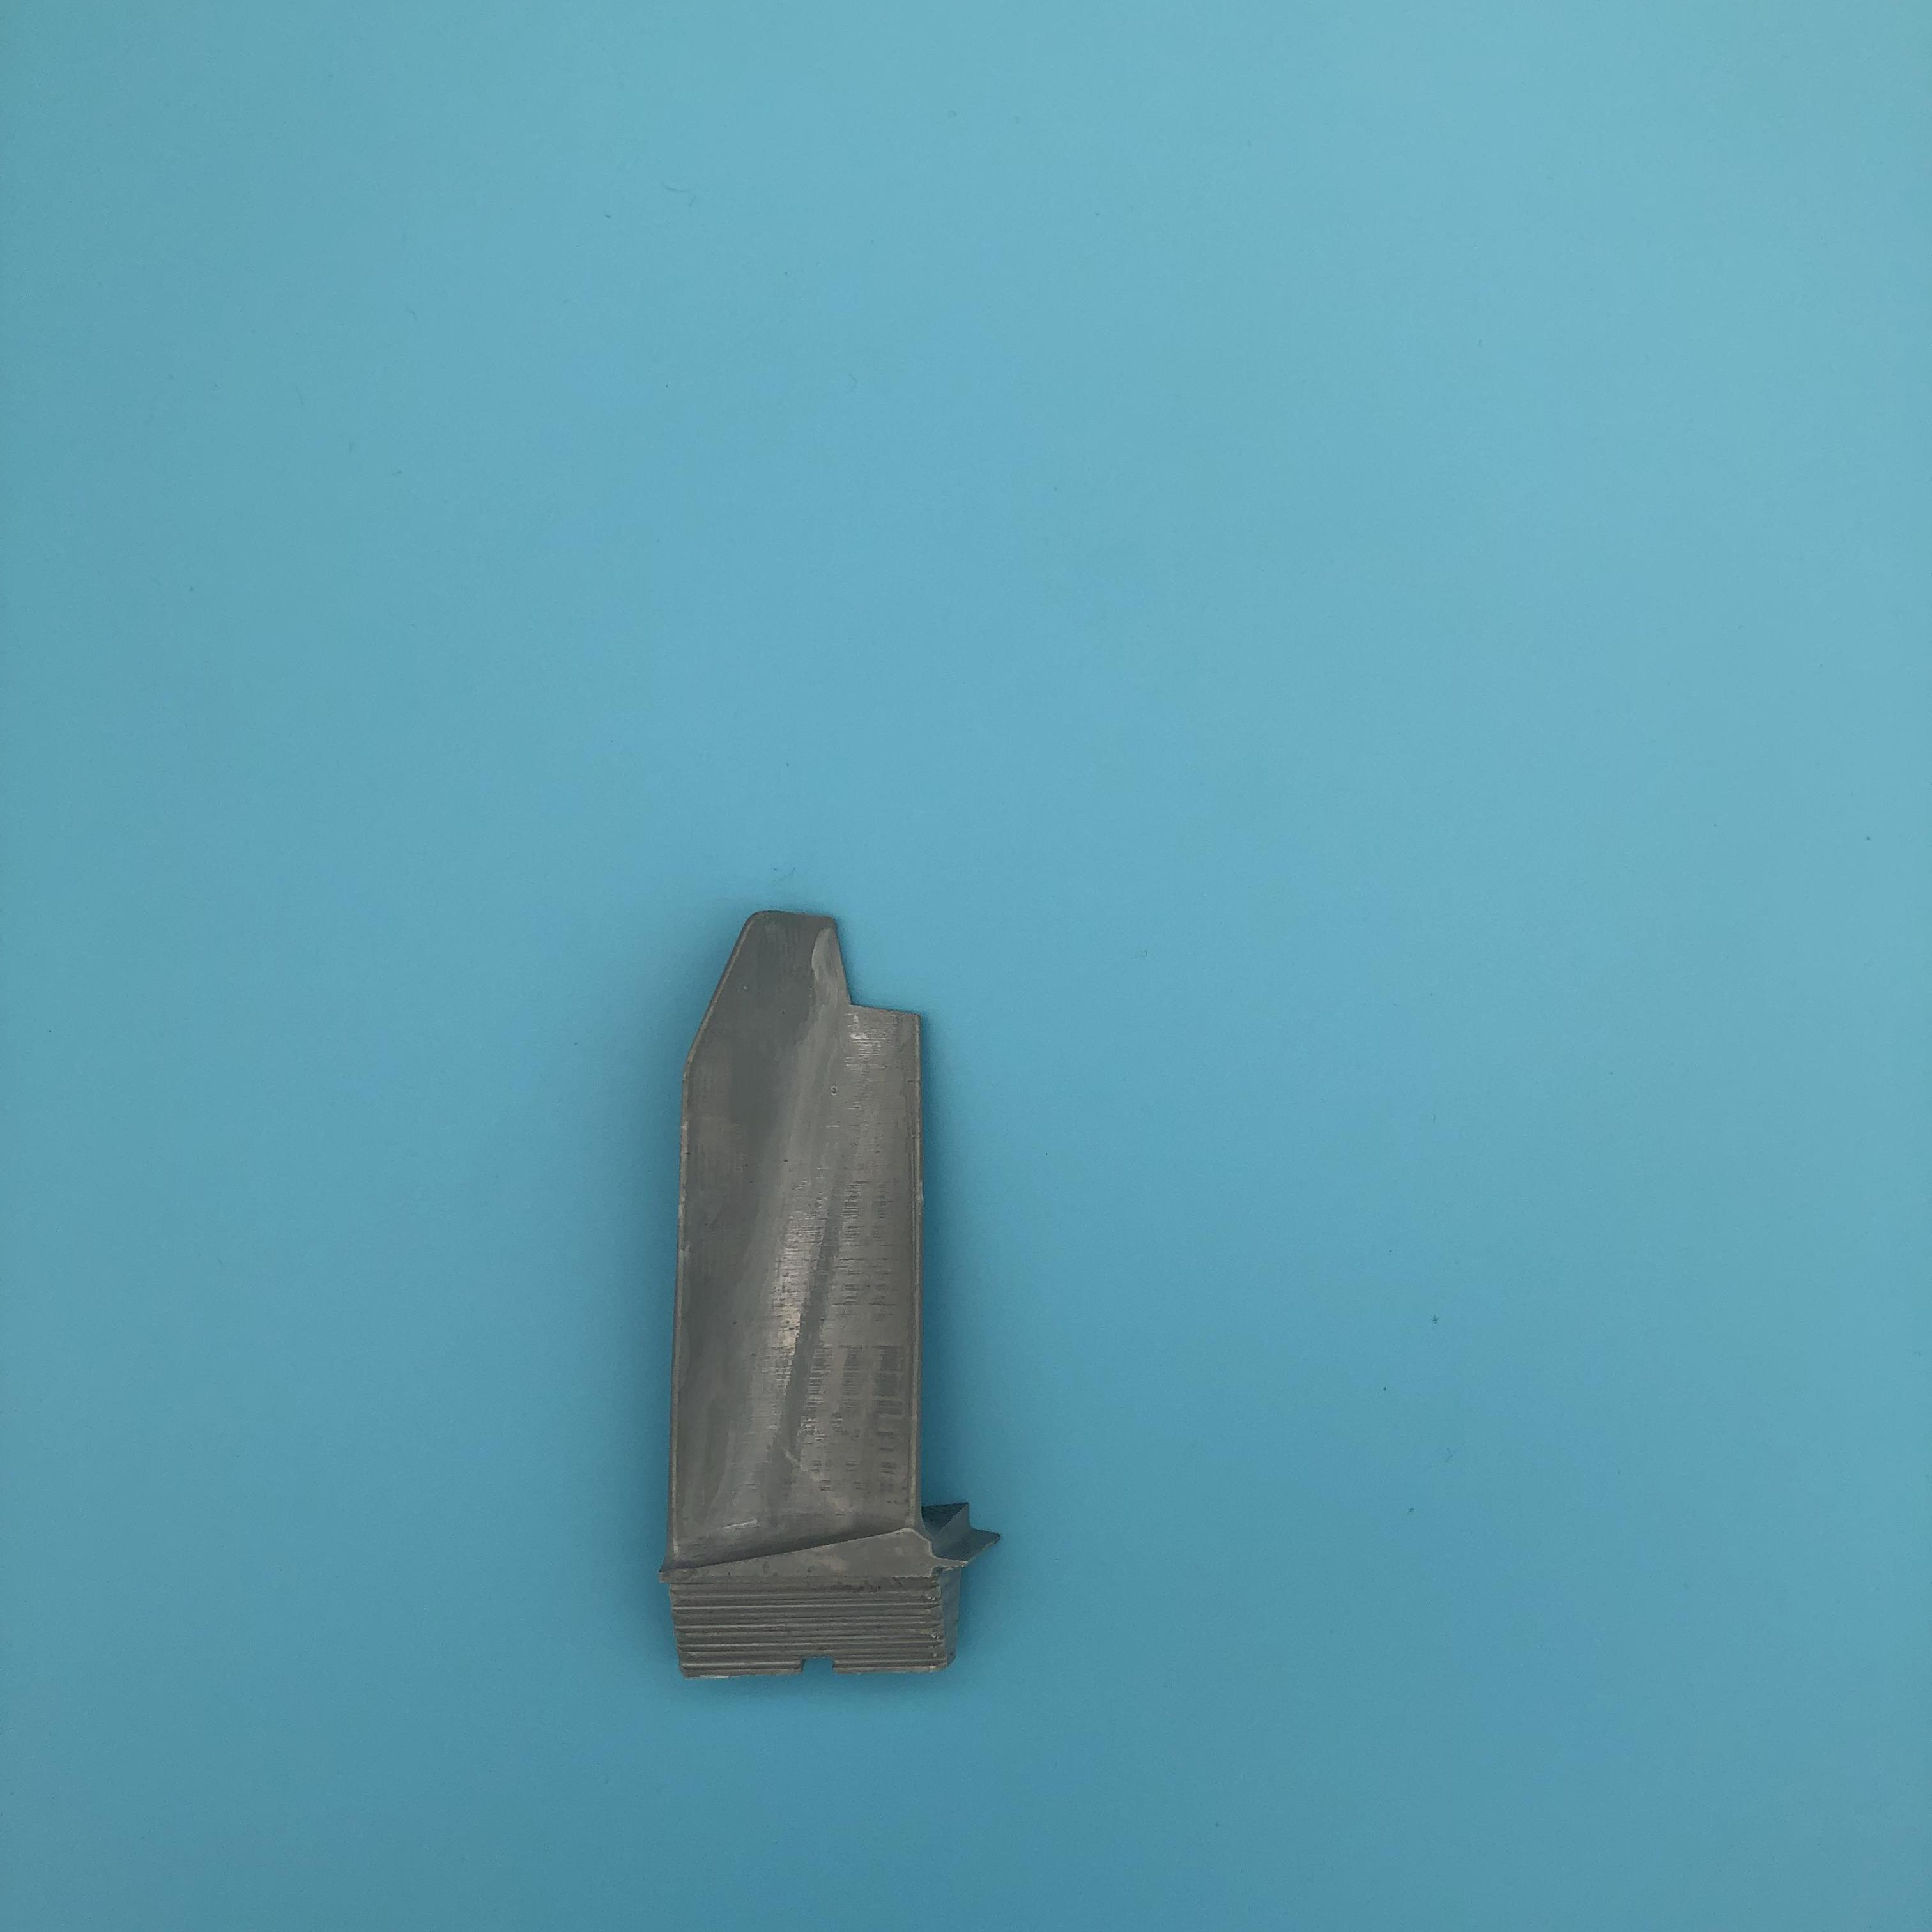fracture: (803, 906, 938, 1044)
